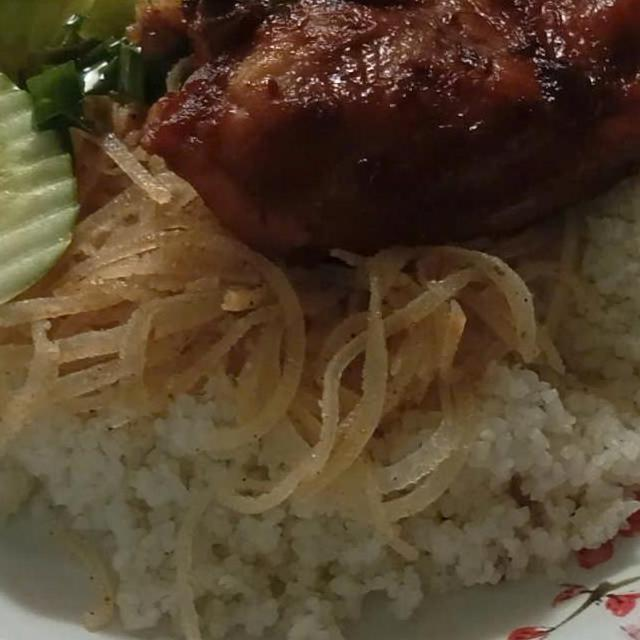bi: (0, 101, 588, 571)
com: (0, 364, 445, 640), (431, 83, 640, 599)
thit ga: (129, 0, 640, 276)
